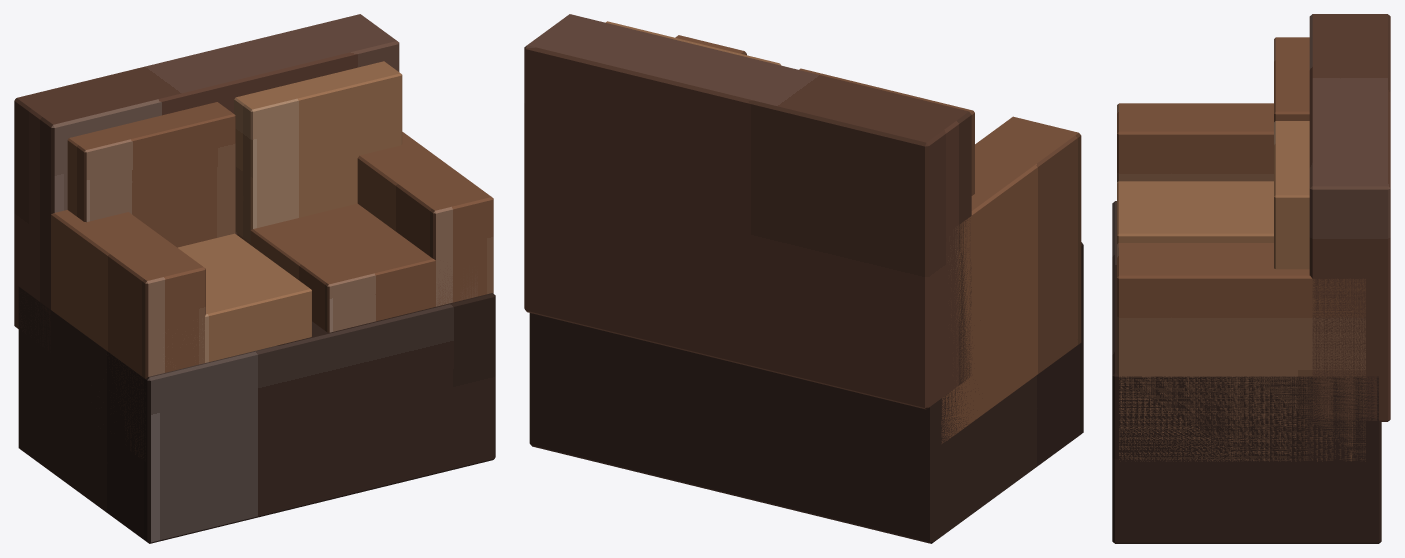
Rendered from lounge_couch_brown.glb.
3 views of the same model, side by side, from view 1: azimuth 30°, elevation 25°; view 2: azimuth 150°, elevation 25°; view 3: azimuth 270°, elevation 25° (orthographic). The views are drawn at different scales.
Parts seen in each view (by area): view 1: CouchBase, CouchBack, BackCushion_2, CouchArm_L, BackCushion_1, SeatCushion_2, CouchArm_R, SeatCushion_1; view 2: CouchBack, CouchBase, CouchArm_L, BackCushion_1; view 3: CouchBase, CouchArm_R, CouchBack, CouchArm_L, SeatCushion_1, BackCushion_2, BackCushion_1, SeatCushion_2.
Boxes of the visible parts, x1,y1,x2,y2 form: CouchBase: (18,286,495,543); CouchBack: (14,14,399,349); BackCushion_2: (234,61,402,242); CouchArm_L: (51,210,205,459); BackCushion_1: (67,102,235,247); SeatCushion_2: (237,203,477,332); CouchArm_R: (357,132,493,306); SeatCushion_1: (178,233,311,362); CouchBack: (524,14,971,409); CouchBase: (529,242,1083,543); CouchArm_L: (941,116,1081,443); BackCushion_1: (799,68,974,195); CouchBase: (1112,201,1381,543); CouchArm_R: (1117,247,1365,461); CouchBack: (1309,14,1390,421); CouchArm_L: (1117,103,1273,181); SeatCushion_1: (1117,181,1273,243); BackCushion_2: (1274,121,1309,269); BackCushion_1: (1274,37,1309,121); SeatCushion_2: (1117,243,1273,248).
Bounding box in the file's own units: 0.92 × 0.91 × 0.62.
Materials: 1 (1 with a texture image).
